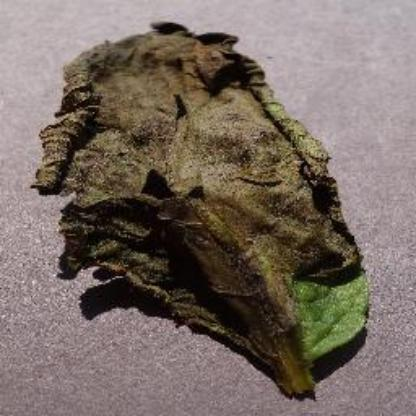Late-Blight: (22, 13, 396, 407)
